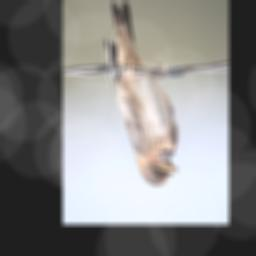Swallow: (103, 1, 180, 188)
